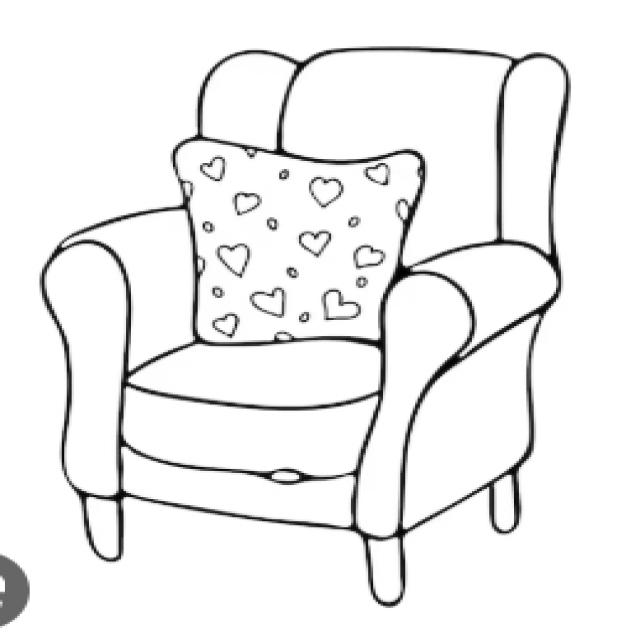Backrest: (170, 48, 515, 351)
Leg_Structure: (80, 467, 522, 609)
Seat: (120, 338, 383, 479)
Wing_Flange: (496, 54, 571, 265), (196, 52, 302, 153)
sofa_armrest: (353, 240, 563, 539), (39, 205, 194, 498)
